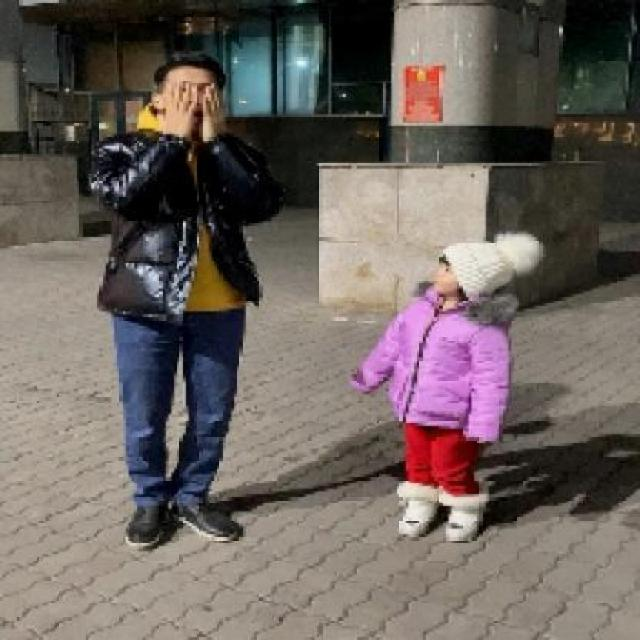child: (348, 229, 546, 545)
